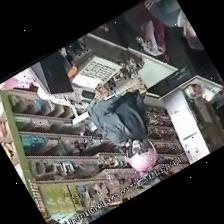person: (88, 90, 156, 170), (144, 0, 203, 49)
